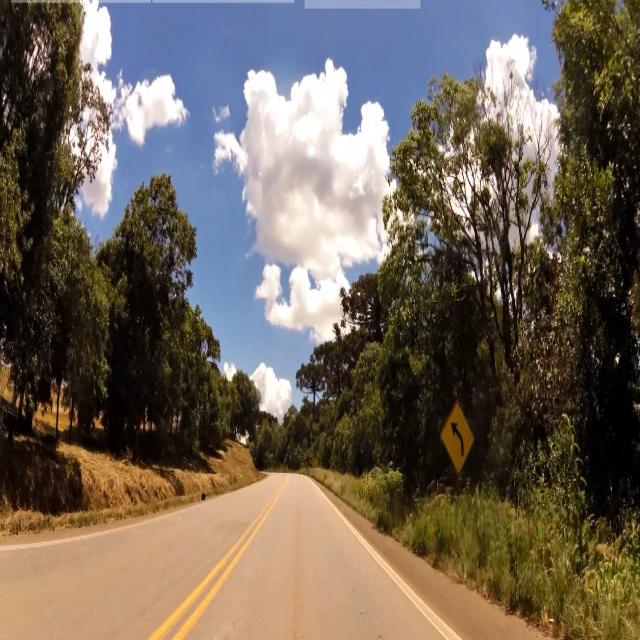A-2a: (440, 400, 474, 478)
